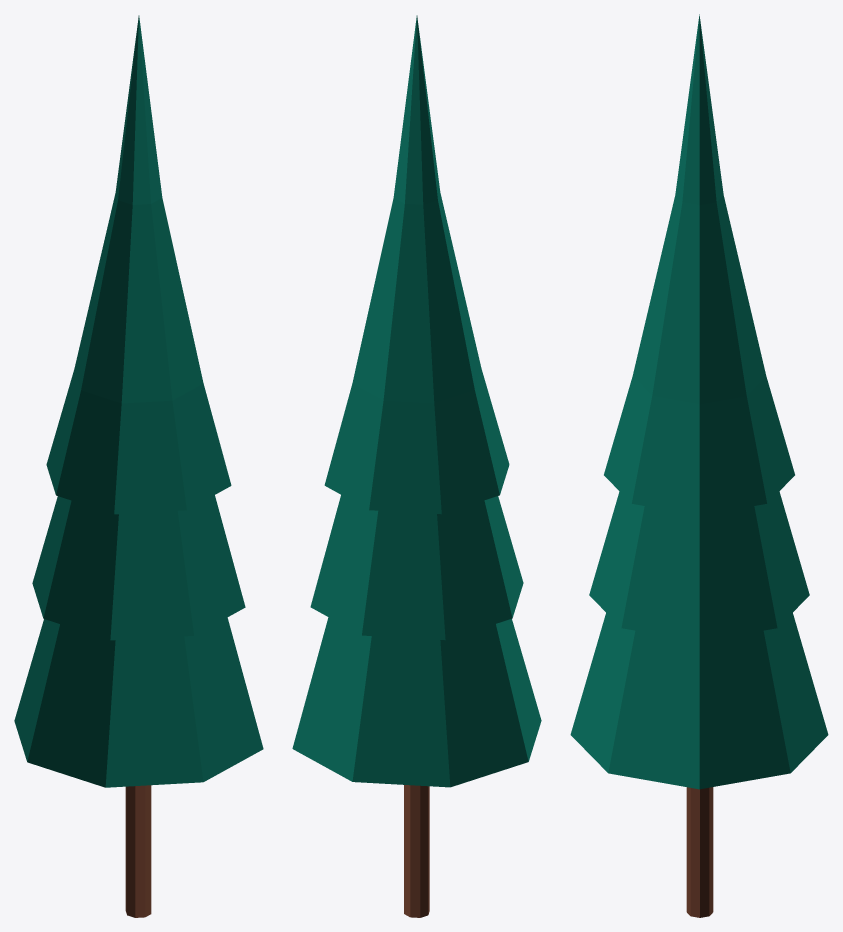
File: Tree.obj
3 views of the same model, side by side, from view 1: azimuth 30°, elevation 25°; view 2: azimuth 150°, elevation 25°; view 3: azimuth 270°, elevation 25° (orthographic).
Parts seen in each view (by area): view 1: Firtree_2_2; view 2: Firtree_2_2; view 3: Firtree_2_2.
Part boxes in pixels (x1=…): Firtree_2_2: x1=14, y1=15, x2=263, y2=917; Firtree_2_2: x1=292, y1=15, x2=541, y2=917; Firtree_2_2: x1=570, y1=14, x2=828, y2=917.
Bounding box in the file's own units: 1.73 × 6.65 × 1.73.
Materials: 1 (1 with a texture image).
